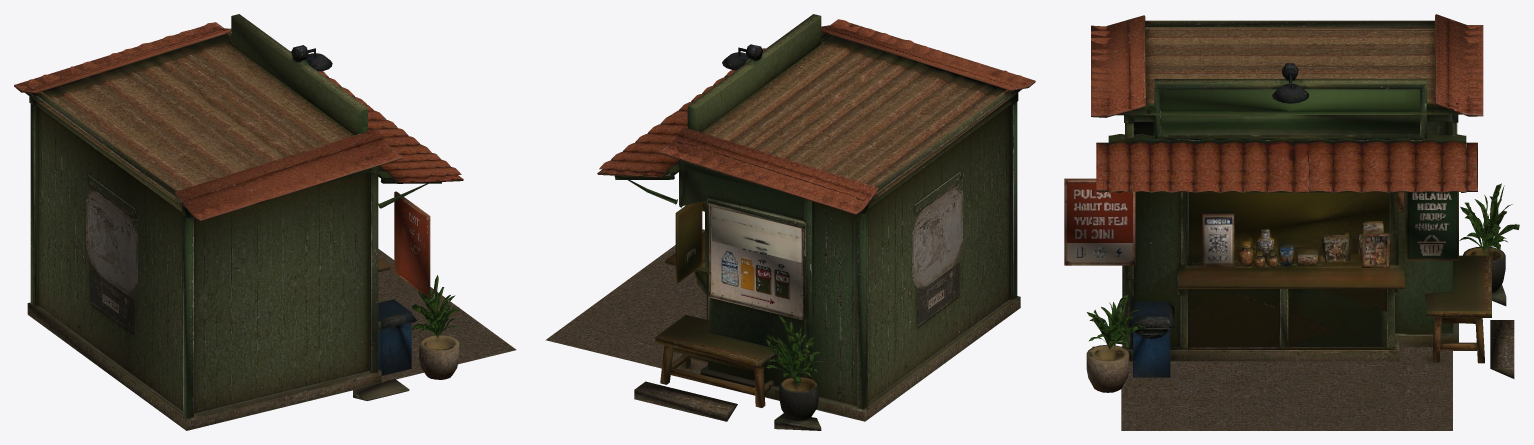
Rendered from kiosk+shop+3d+model.glb.
3 views of the same model, side by side, from view 1: azimuth 30°, elevation 25°; view 2: azimuth 150°, elevation 25°; view 3: azimuth 270°, elevation 25° (orthographic). The views are drawn at different scales.
Visible parts, largest first — view 1: tripo_node_5fa9e6af-75a1-4ad5-9022-d36e2e9e3839; view 2: tripo_node_5fa9e6af-75a1-4ad5-9022-d36e2e9e3839; view 3: tripo_node_5fa9e6af-75a1-4ad5-9022-d36e2e9e3839.
Part boxes in pixels (box(x1,y1,x2,y2)): tripo_node_5fa9e6af-75a1-4ad5-9022-d36e2e9e3839: box(14, 14, 516, 430); tripo_node_5fa9e6af-75a1-4ad5-9022-d36e2e9e3839: box(545, 14, 1035, 430); tripo_node_5fa9e6af-75a1-4ad5-9022-d36e2e9e3839: box(1064, 14, 1519, 430).
Size of the model in its own units: 0.8926 by 0.7363 by 0.998.
Materials: 1 (1 with a texture image).
